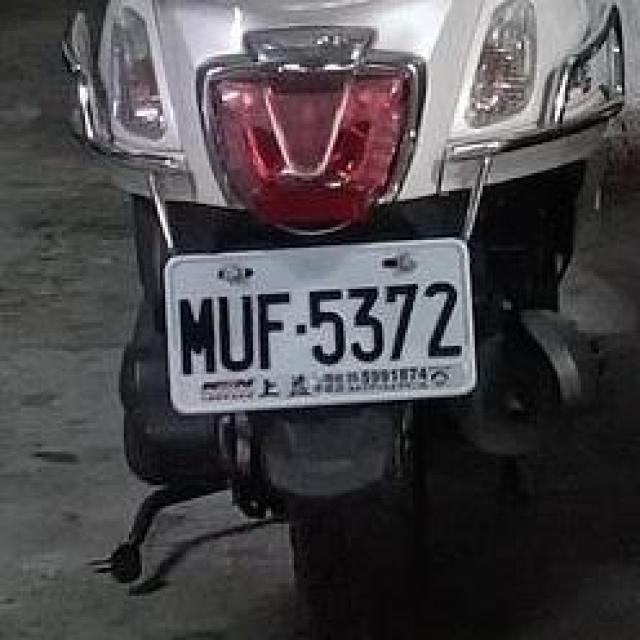W: (152, 227, 488, 421)
